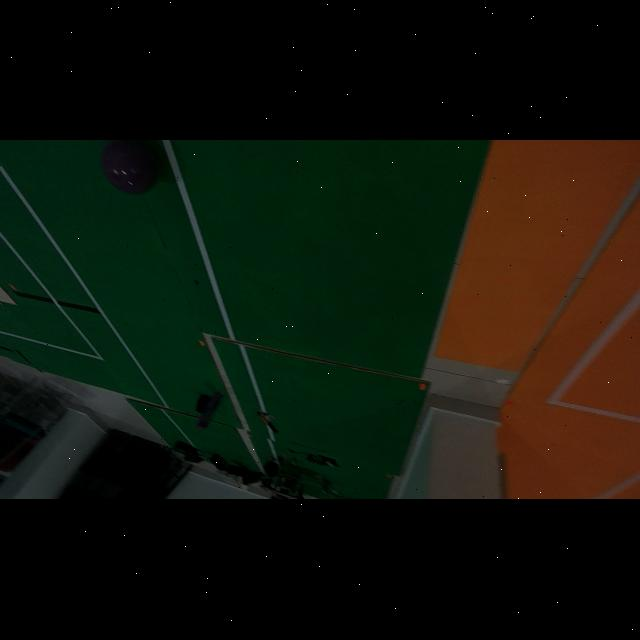P: (102, 140, 160, 194)
